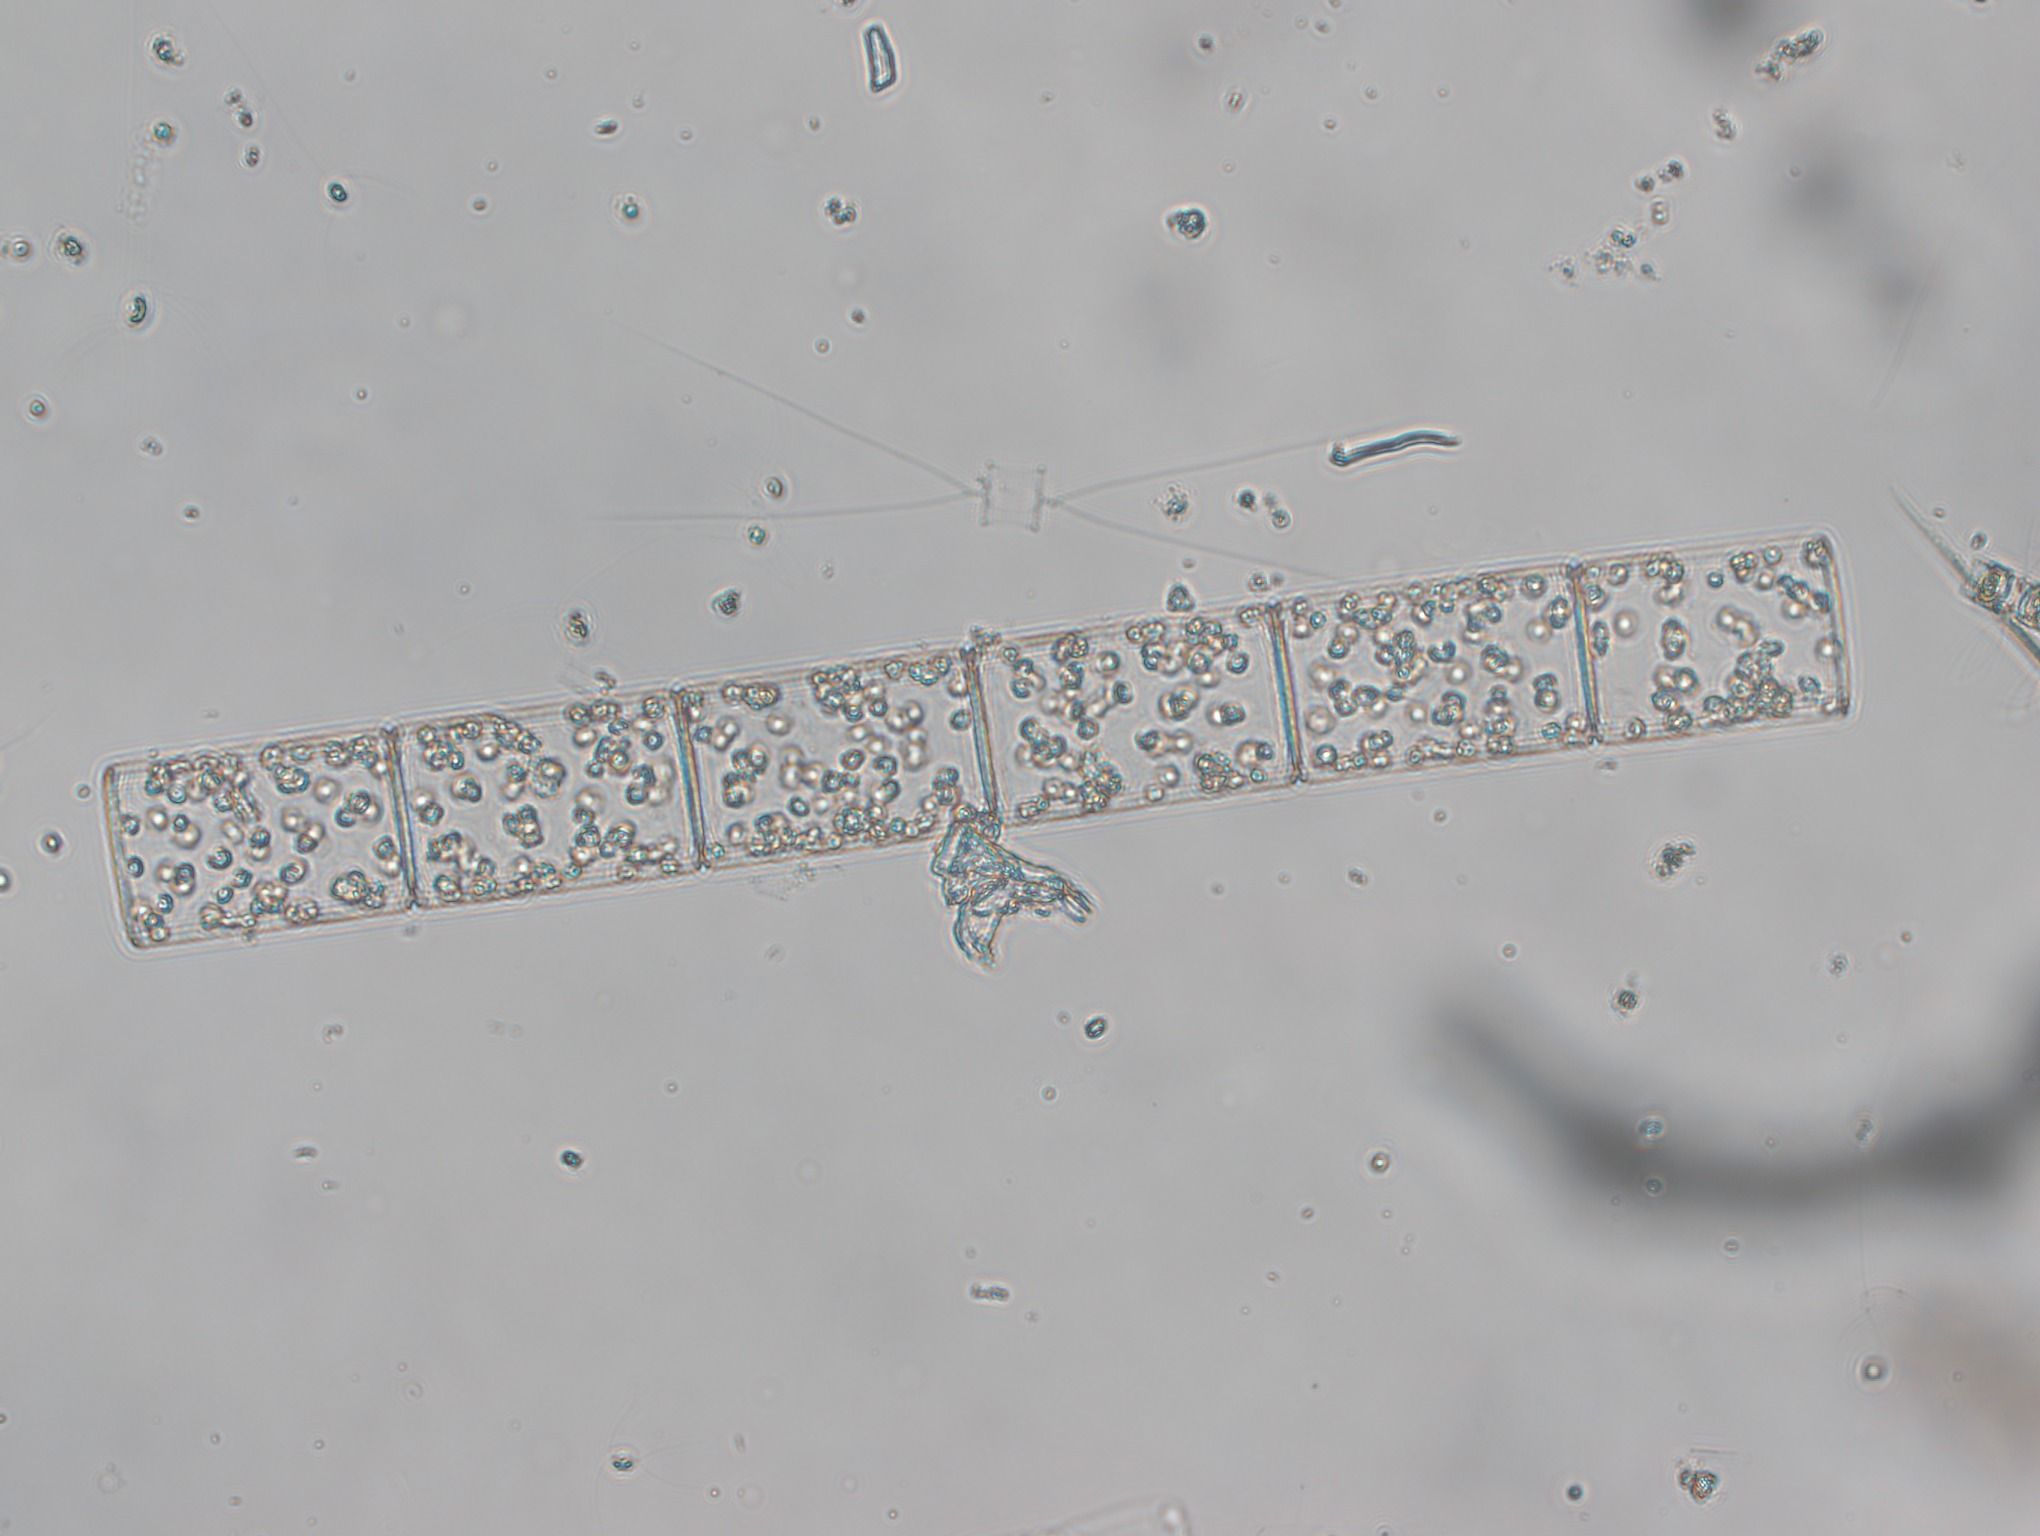chaetoceros: (627, 336, 1385, 586)
guinardia flaccida: (97, 532, 1859, 960)
